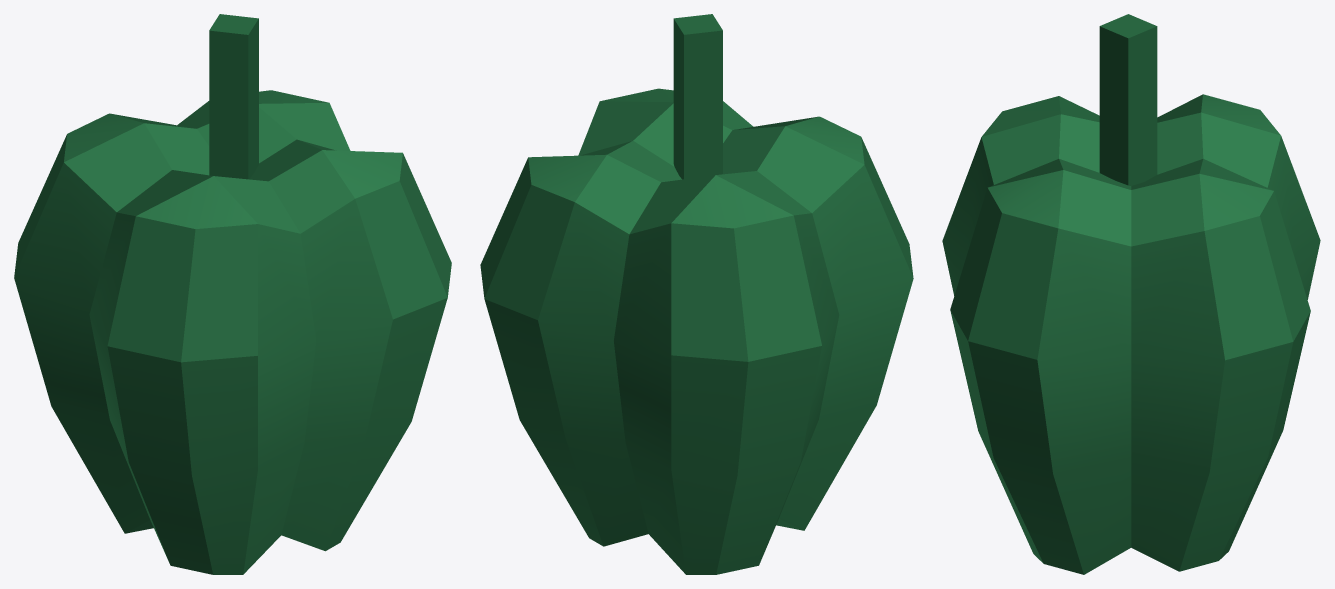
The model's file is bellpepper_4.FBX.
3 views of the same model, side by side, from view 1: azimuth 30°, elevation 25°; view 2: azimuth 150°, elevation 25°; view 3: azimuth 270°, elevation 25° (orthographic).
Parts seen in each view (by area): view 1: bellpepper_4; view 2: bellpepper_4; view 3: bellpepper_4.
Part boxes in pixels (x1,y1,x2,y2): bellpepper_4: (14,14,451,574); bellpepper_4: (480,14,913,574); bellpepper_4: (942,14,1320,574).
Bounding box in the file's own units: 0.1367 × 0.1918 × 0.1291.
1 material, 1 textured.
